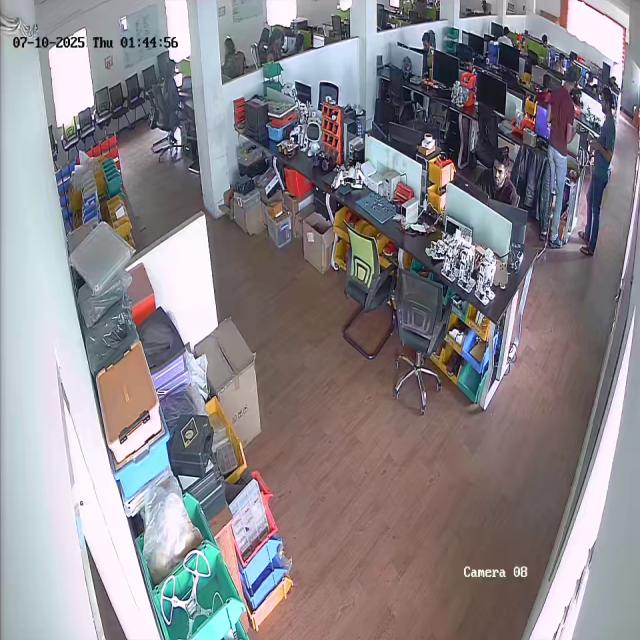person: (531, 64, 581, 249), (580, 87, 615, 257)
